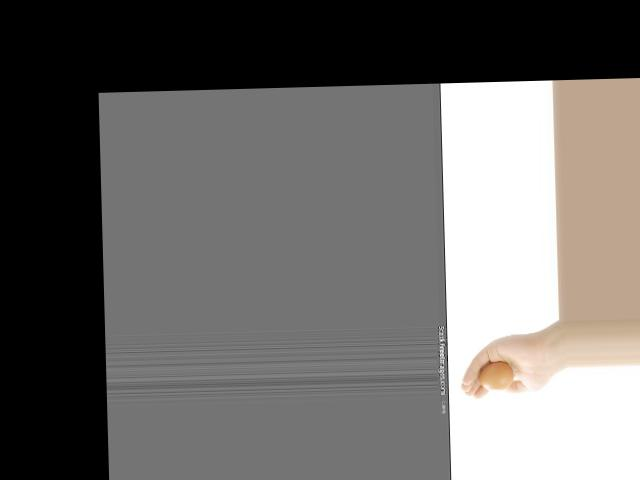egg: (476, 361, 514, 390)
